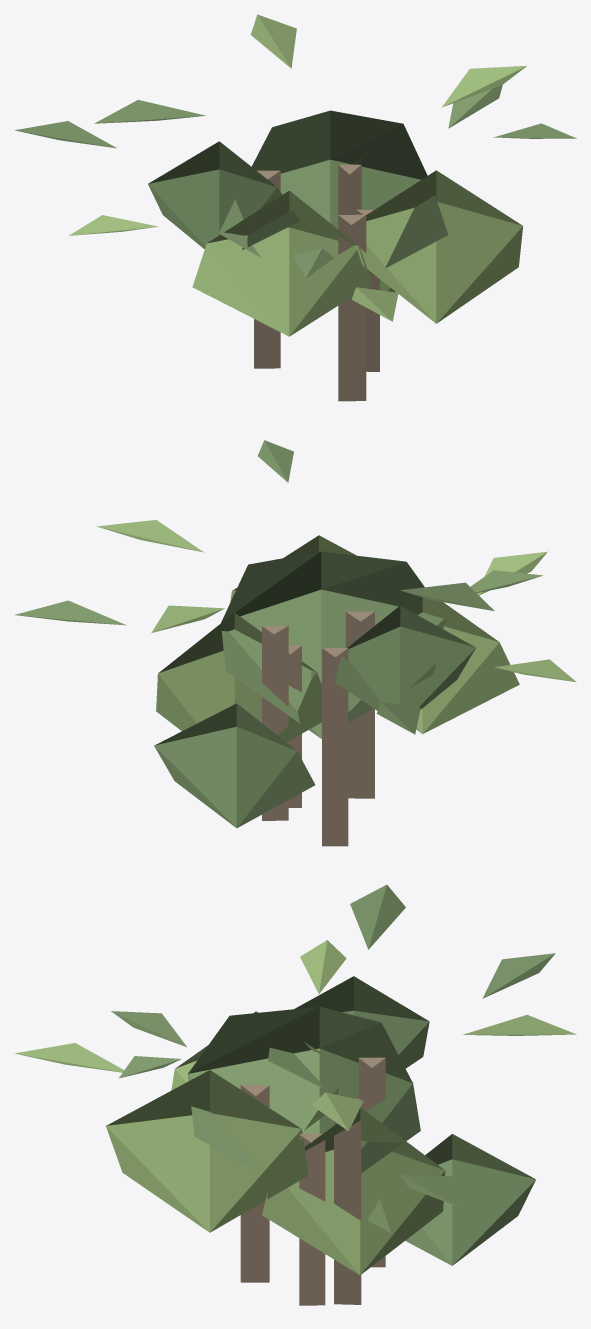
File: guan.huanglu@subadult__bloom.glb
3 views of the same model, one above another, from view 1: azimuth 30°, elevation 25°; view 2: azimuth 150°, elevation 25°; view 3: azimuth 270°, elevation 25° (orthographic). The views are drawn at different scales.
Parts seen in each view (by area): view 1: guan.huanglu@subadult__bloom; view 2: guan.huanglu@subadult__bloom; view 3: guan.huanglu@subadult__bloom.
Boxes of the visible parts, box(x1,y1,x2,y2) form: guan.huanglu@subadult__bloom: box(15, 14, 576, 401); guan.huanglu@subadult__bloom: box(15, 440, 576, 846); guan.huanglu@subadult__bloom: box(14, 884, 576, 1305).
Size of the model in its own units: 2.45 by 1.35 by 2.26.
